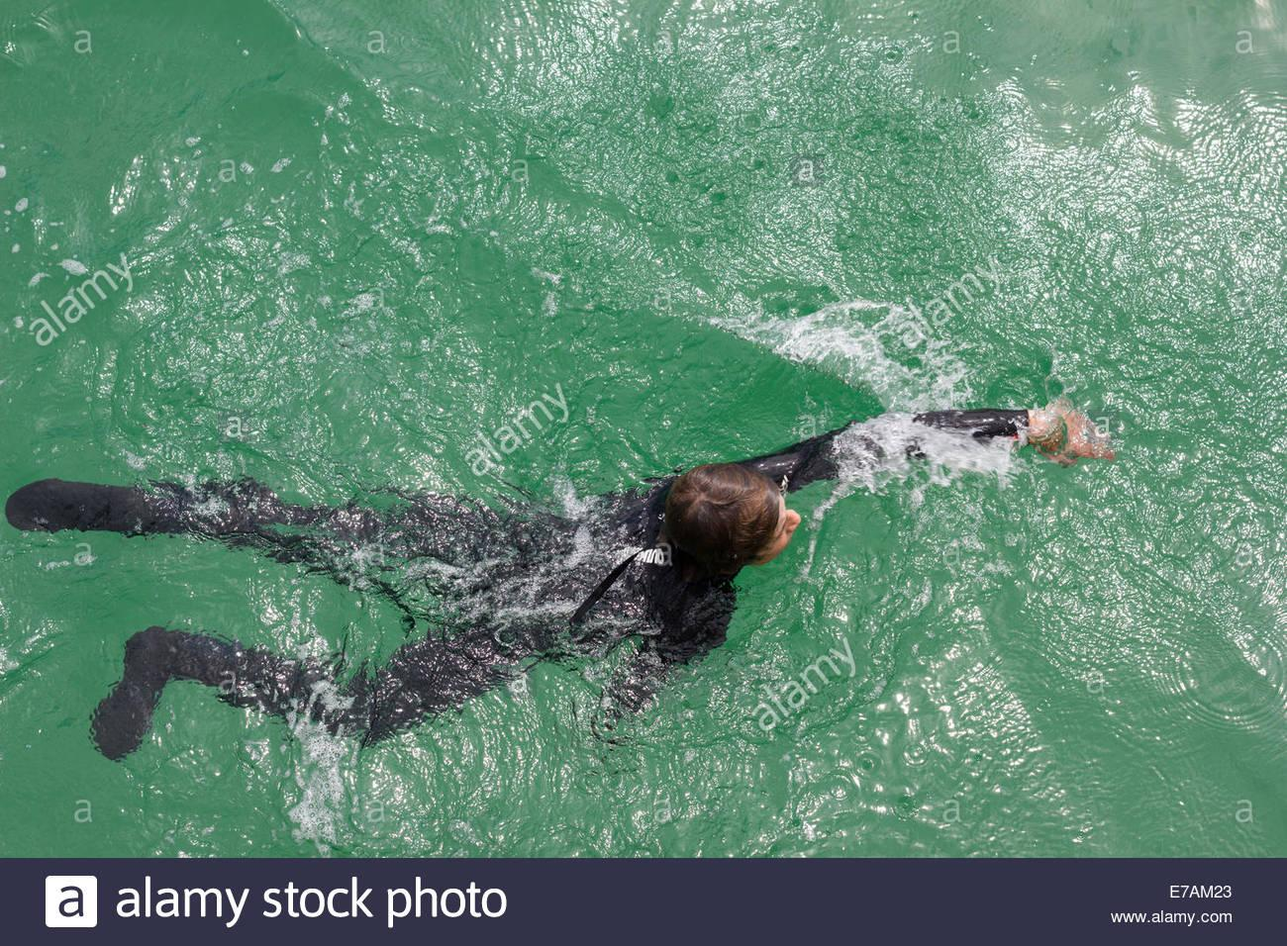human: (5, 397, 1110, 769)
